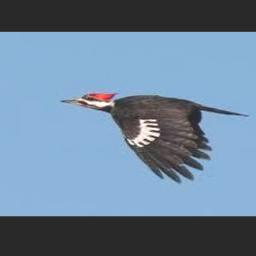Woodpecker: (63, 92, 249, 182)
